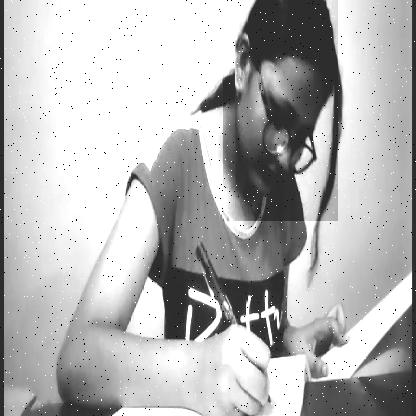Distracted: (223, 0, 338, 221)
